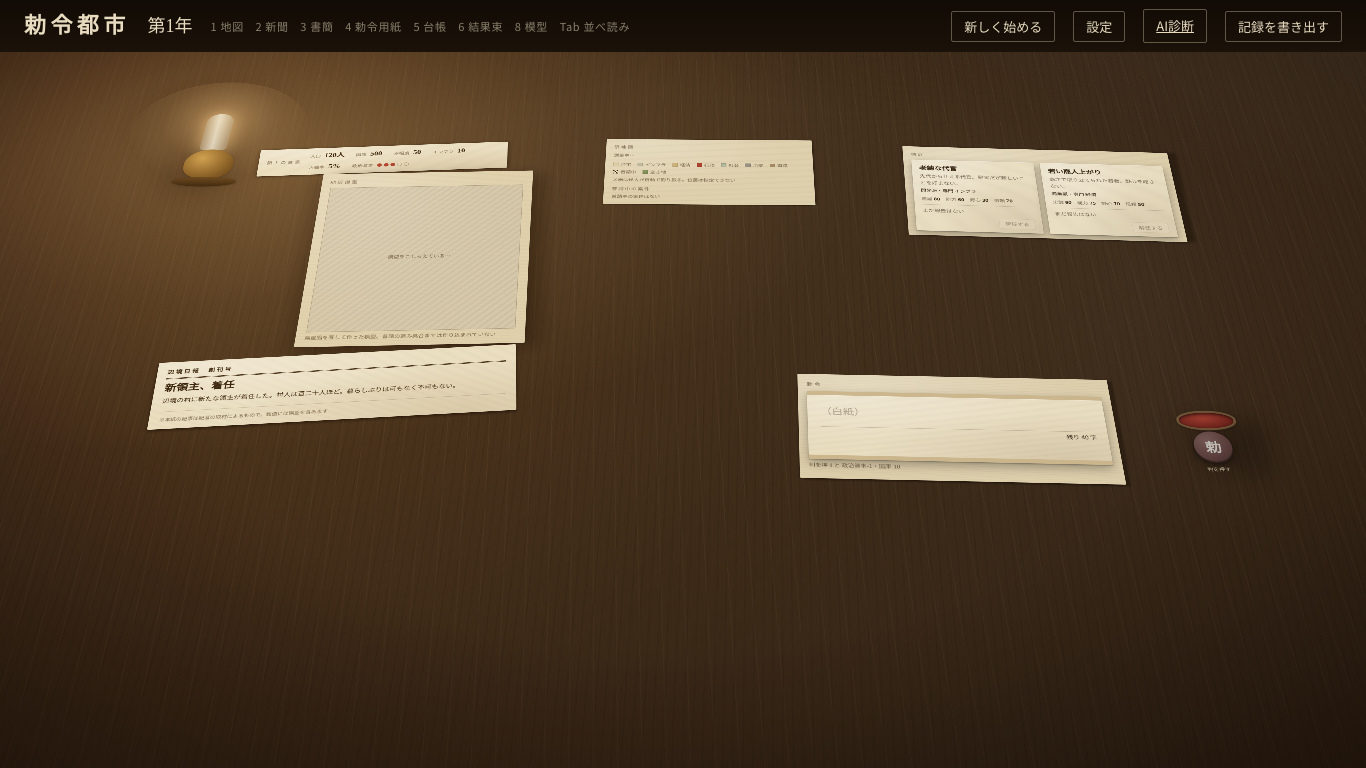
Test: 1年ずつ遊べる（平面・立体） › 立体の机では、用紙を手に取っていないと判は押せない
Check: the text "第1年" is shown, box [148,11,193,41]
Press 4
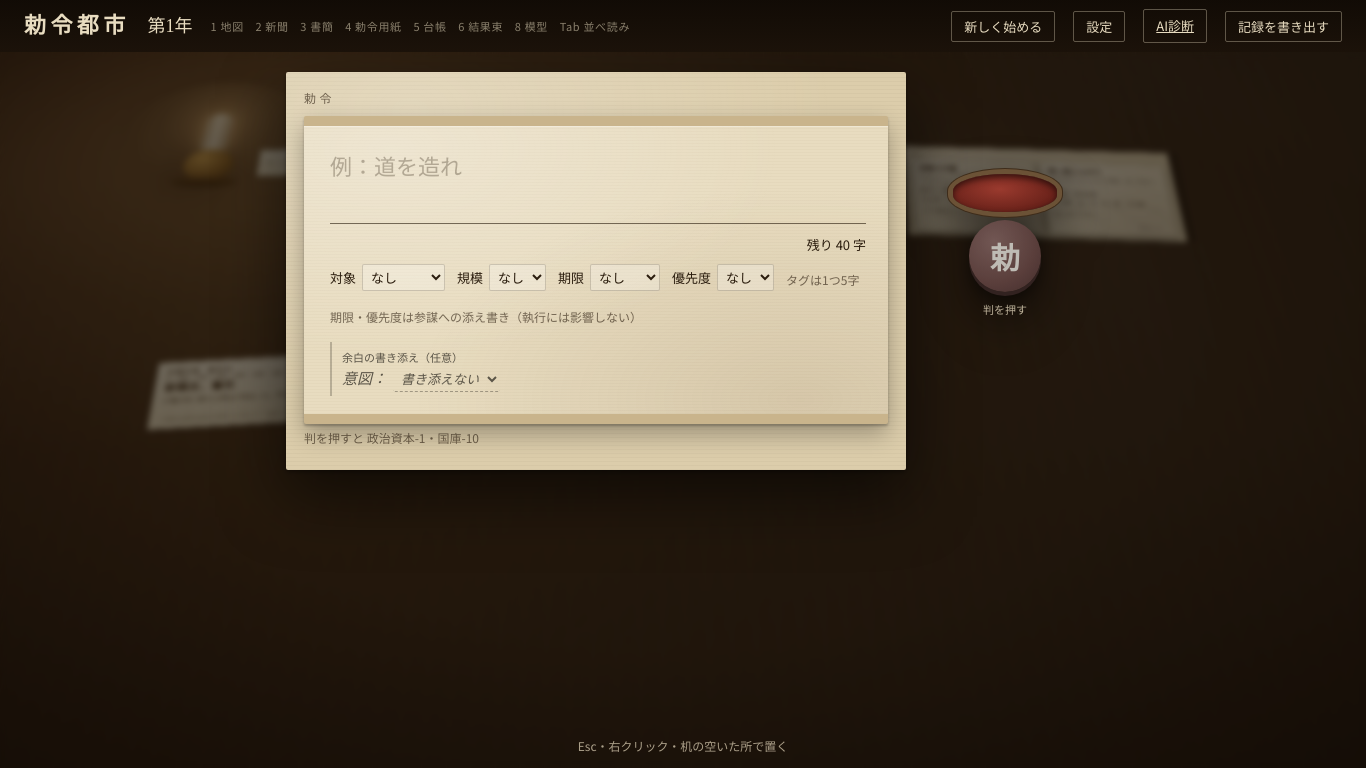
Type "道を造れ" into the text box with class "decree-text" at (598, 186), box [330,148,866,224]
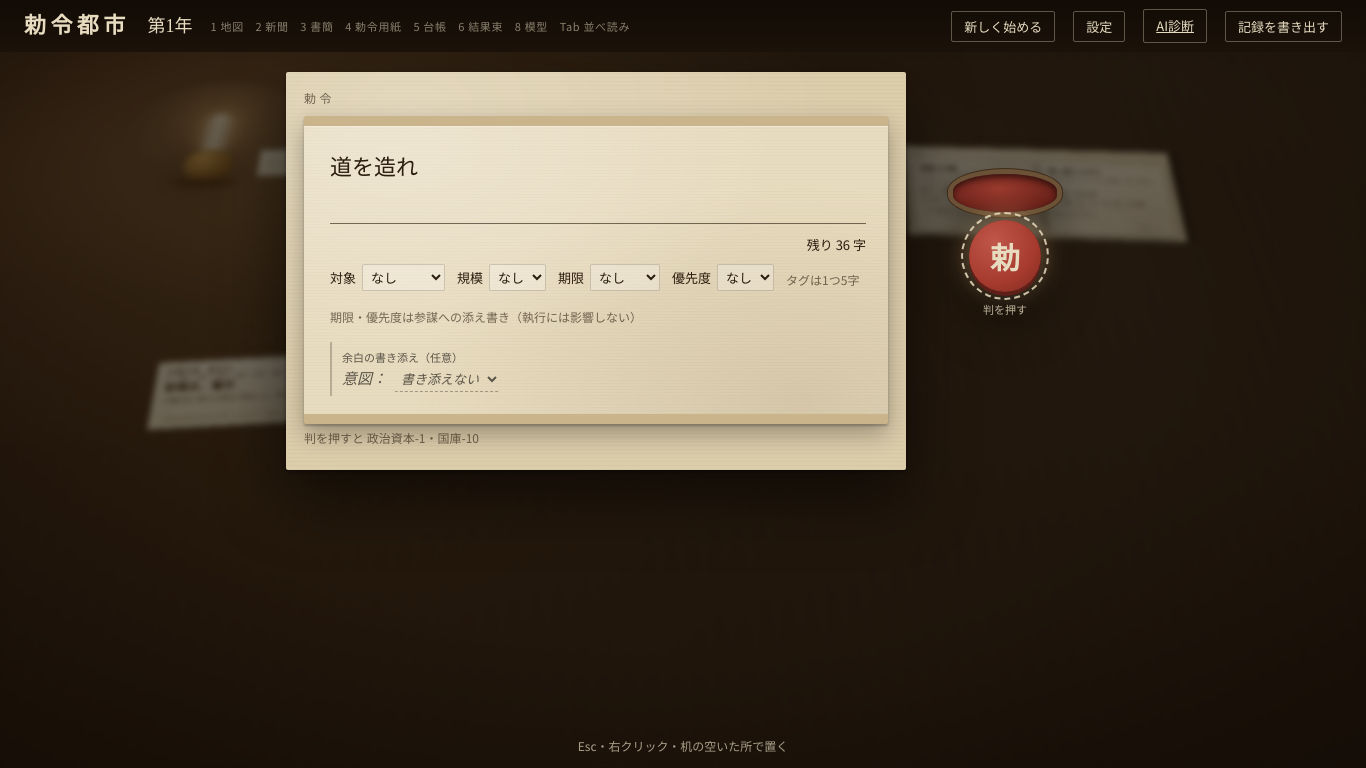
Check: the button with test id "stamp" is enabled, box [969,220,1041,292]
Press Escape
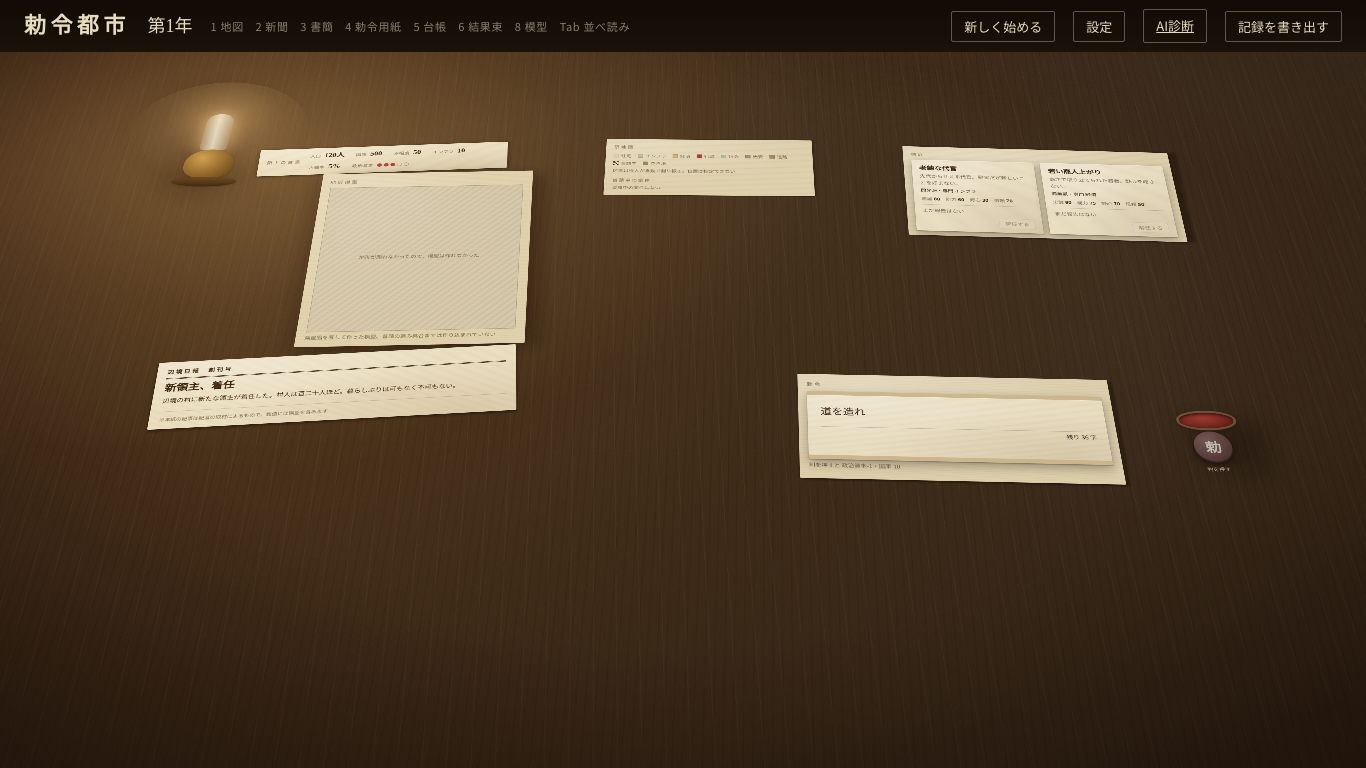
Check: the button with test id "stamp" is disabled, box [1190,432,1236,462]
